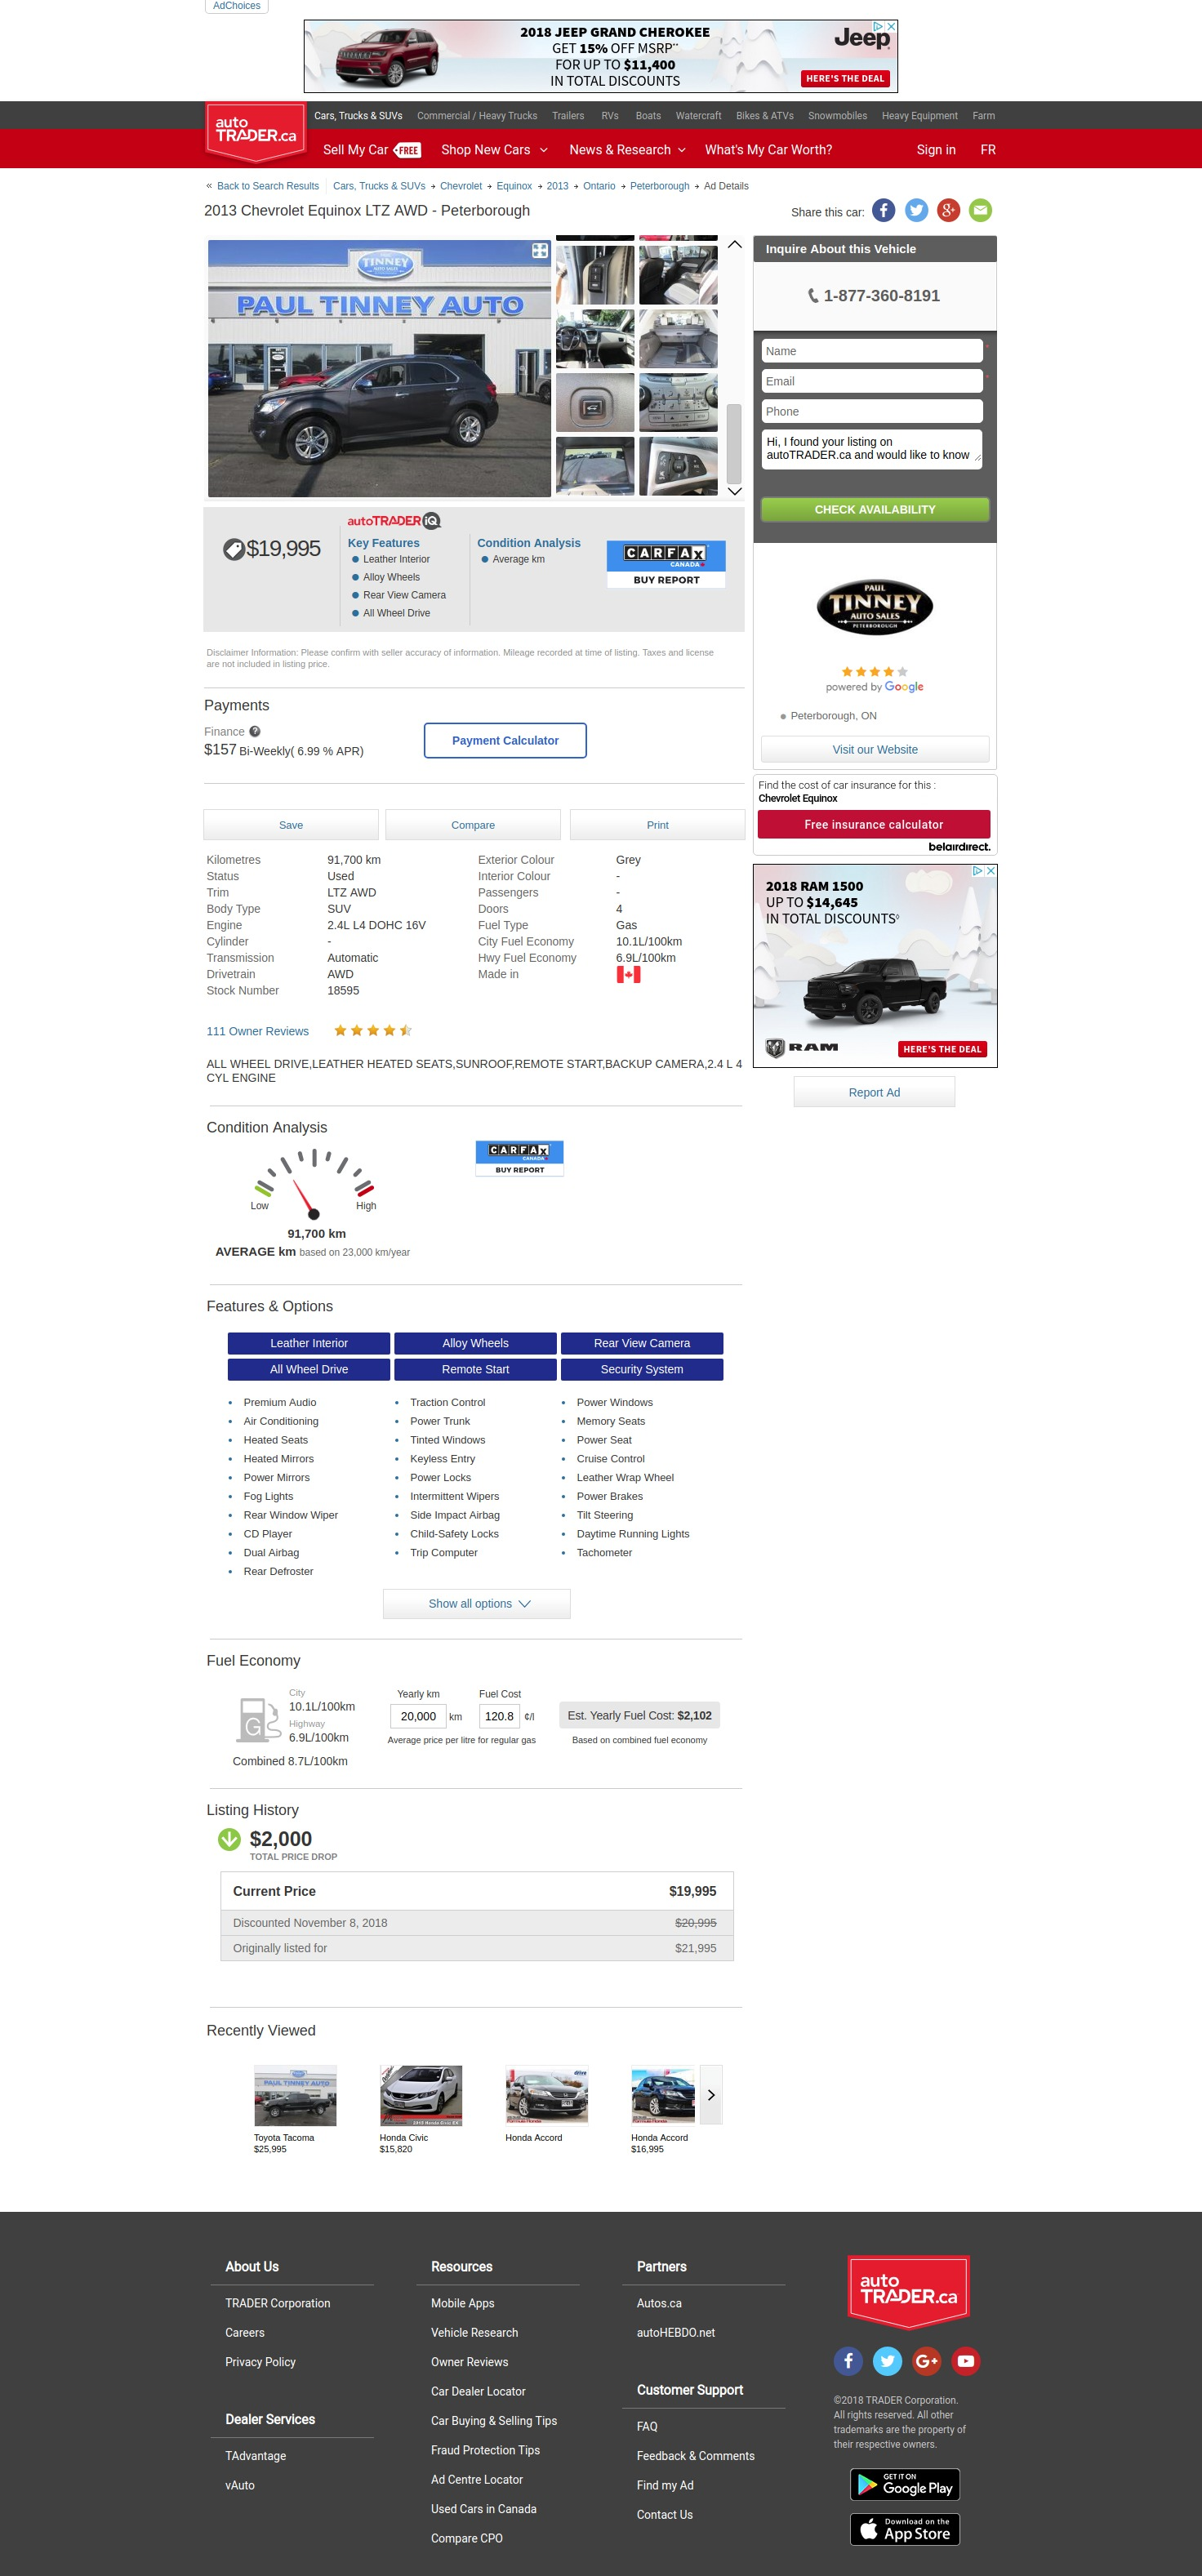car: (727, 486, 746, 498)
